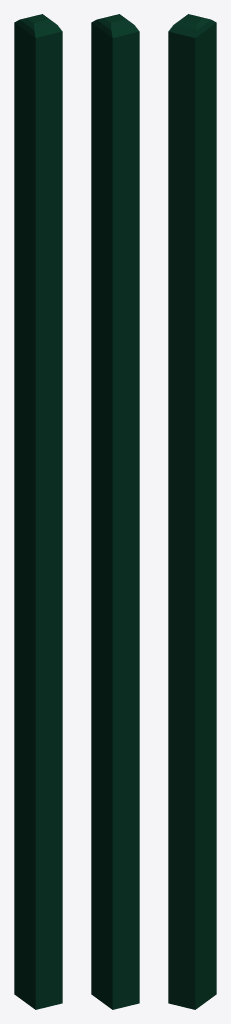
Rendered from green spikey fence single post.fbx.
The picture shows the model from 3 angles, left to right: view 1: azimuth 30°, elevation 25°; view 2: azimuth 210°, elevation 25°; view 3: azimuth 330°, elevation 25°; orthographic projection.
Parts seen in each view (by area): view 1: sidepost right; view 2: sidepost right; view 3: sidepost right.
Boxes of the visible parts, <box> form: sidepost right: <box>14,14,62,1009</box>; sidepost right: <box>91,14,139,1009</box>; sidepost right: <box>168,14,216,1009</box>.
Bounding box in the file's own units: 29.96 × 1040 × 41.
